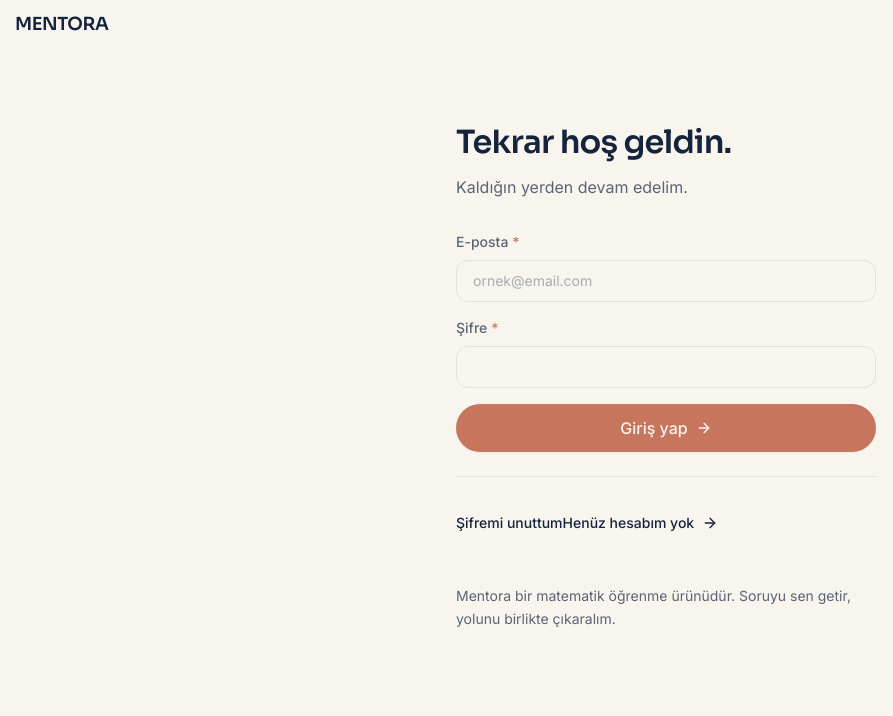
AuthScreen › asks only for what signup needs and no long survey
The image size is (893, 716).
Click the button "Henüz hesabım yok": (640, 523) [563,501,718,545]
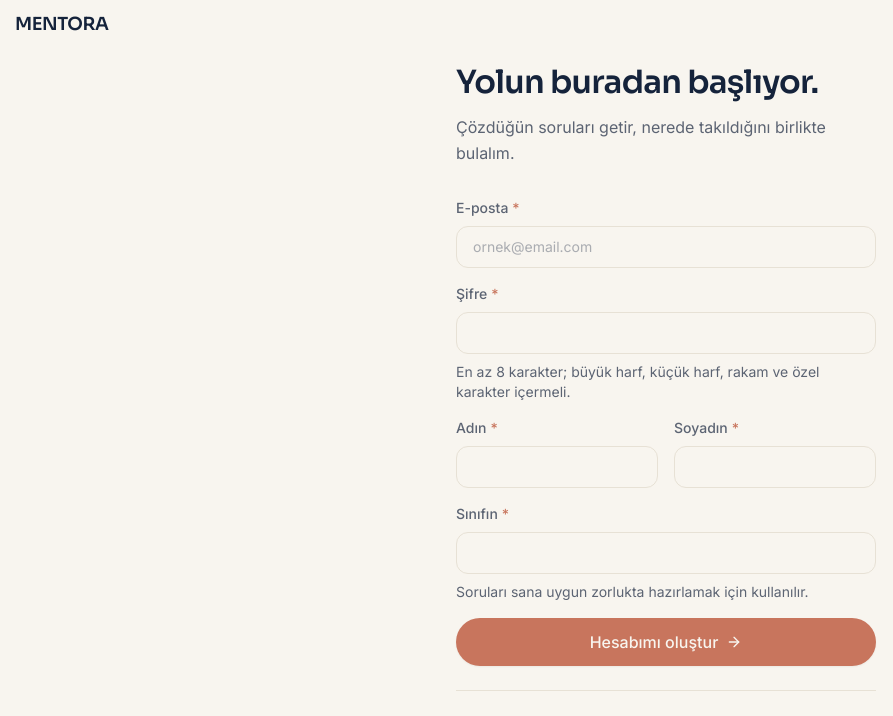
Expected: the field labelled "Adın*" is shown, [456,446,658,488]
Expected: the field labelled "Soyadın*" is shown, [674,446,876,488]
Expected: the number field labelled "Sınıfın*" is shown, [456,532,876,574]
